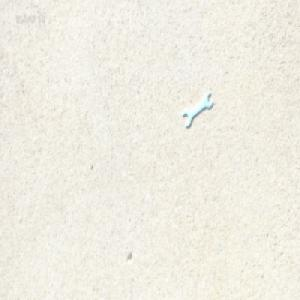Wrench: (182, 91, 212, 126)
